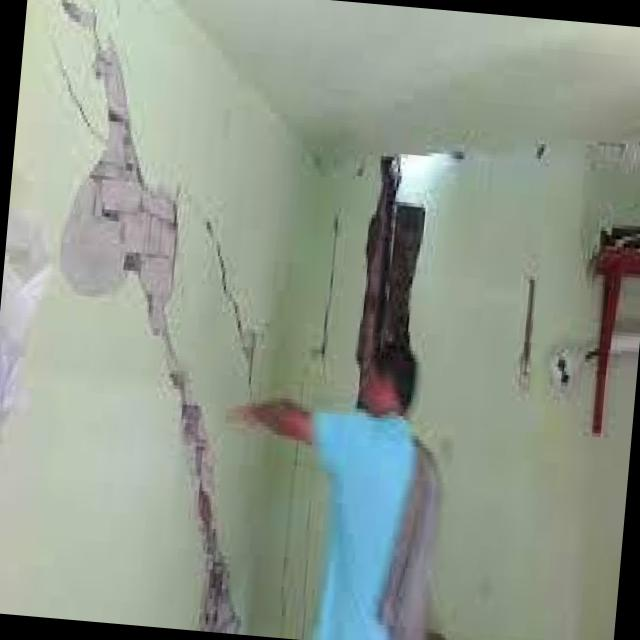crack: (55, 39, 180, 369), (170, 373, 221, 562), (203, 216, 252, 375), (196, 559, 246, 630), (59, 0, 101, 51)
